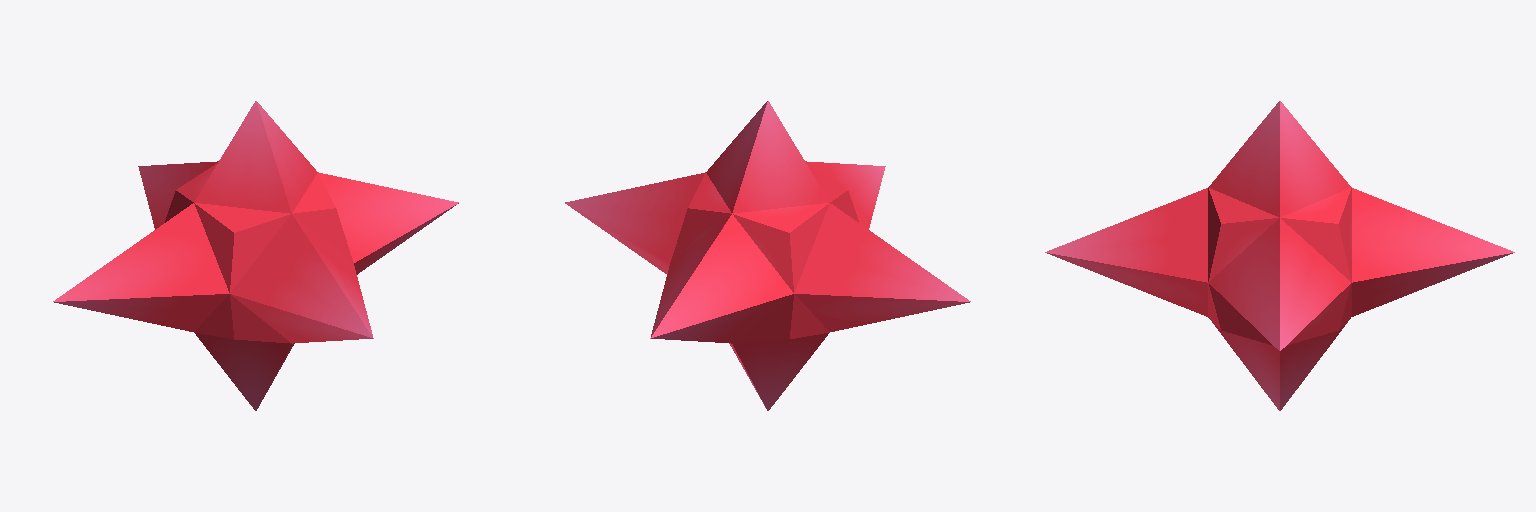
The picture shows the model from 3 angles: view 1: azimuth 30°, elevation 25°; view 2: azimuth 150°, elevation 25°; view 3: azimuth 270°, elevation 25°; orthographic projection.
Parts seen in each view (by area): view 1: 立方体; view 2: 立方体; view 3: 立方体.
Part boxes in pixels (x1,y1,x2,y2): 立方体: (53,101,458,410); 立方体: (565,101,970,410); 立方体: (1045,101,1514,410).
Bounding box in the file's own units: 4 × 2.93 × 4.01.
1 materials, 1 textured.